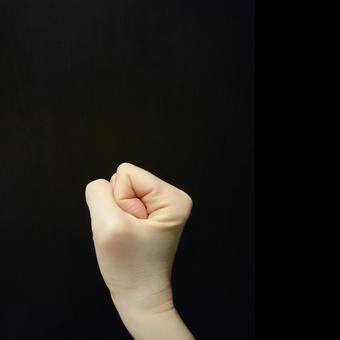gu-: (82, 161, 196, 289)
